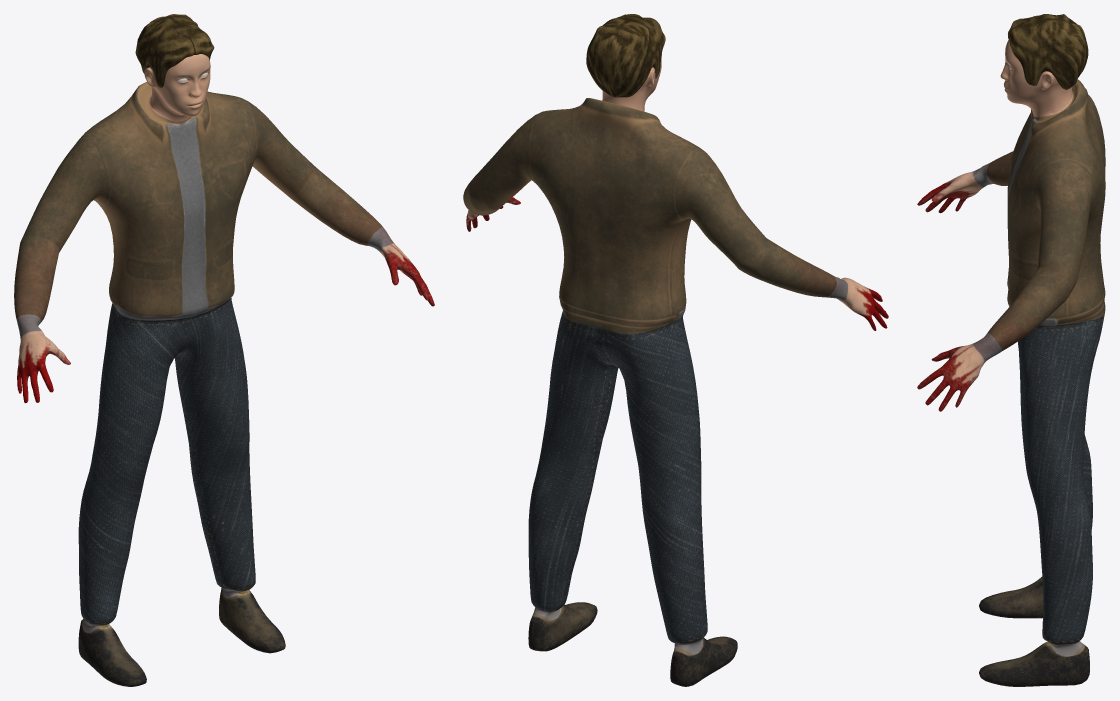
File: MC_bloody.fbx
3 renders of one model, left to right at view 1: azimuth 30°, elevation 25°; view 2: azimuth 150°, elevation 25°; view 3: azimuth 270°, elevation 25°, orthographic.
Visible parts, largest first — view 1: Cube; view 2: Cube; view 3: Cube.
Part boxes in pixels (x1,y1,x2,y2): Cube: [14, 14, 434, 686]; Cube: [463, 14, 888, 686]; Cube: [917, 14, 1105, 686].
Size of the model in its own units: 122 by 180 by 48.69.
1 material, 1 textured.
